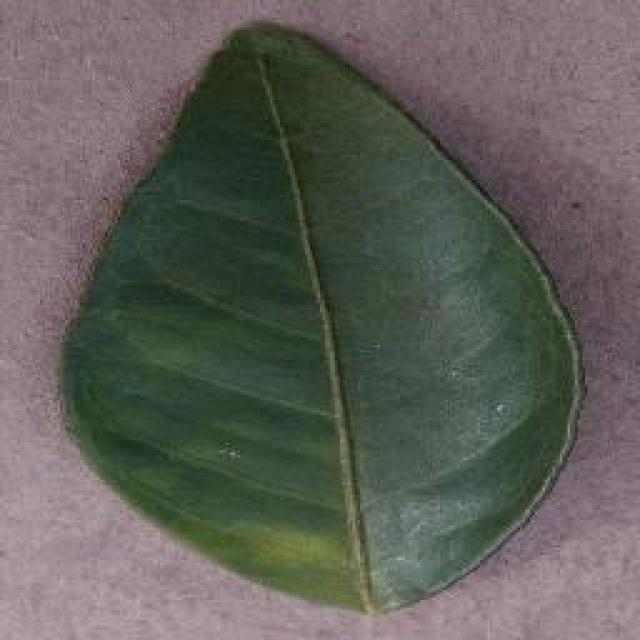Orange_Haunglongbing_Citrus_greening: (114, 121, 530, 506)
